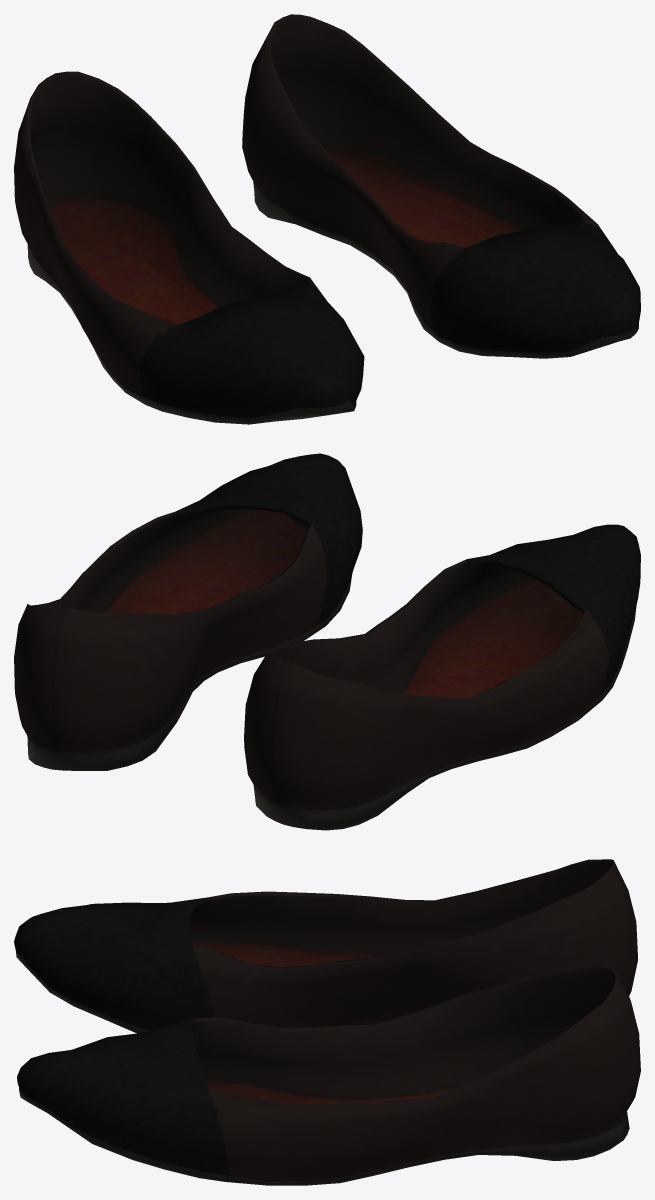
File: Shoes 6.FBX
The picture shows the model from 3 angles, top to bottom: view 1: azimuth 30°, elevation 25°; view 2: azimuth 150°, elevation 25°; view 3: azimuth 270°, elevation 25°; orthographic projection. The views are drawn at different scales.
Visible parts, largest first — view 1: left shoe, right shoe; view 2: right shoe, left shoe; view 3: left shoe, right shoe.
Part boxes in pixels (bbox=[...]): left shoe: bbox=[242, 14, 640, 358]; right shoe: bbox=[14, 71, 364, 424]; right shoe: bbox=[244, 524, 640, 830]; left shoe: bbox=[14, 453, 362, 770]; left shoe: bbox=[17, 965, 640, 1185]; right shoe: bbox=[14, 859, 637, 1033].
Size of the model in its own units: 24.88 by 29.3 by 8.4.
Materials: 1 (1 with a texture image).
